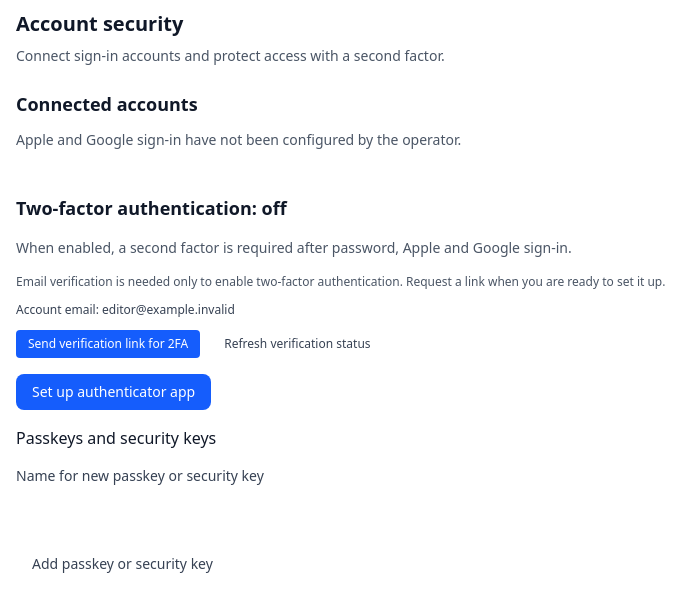
Test case: AccountSecurityPanel provider callback › enables factor setup after refreshing a completed email verification
Check: the button "Set up authenticator app" is disabled, box [16,374,211,410]
Step 1. Click the button "Refresh verification status" → (297, 344), box [212,330,383,358]
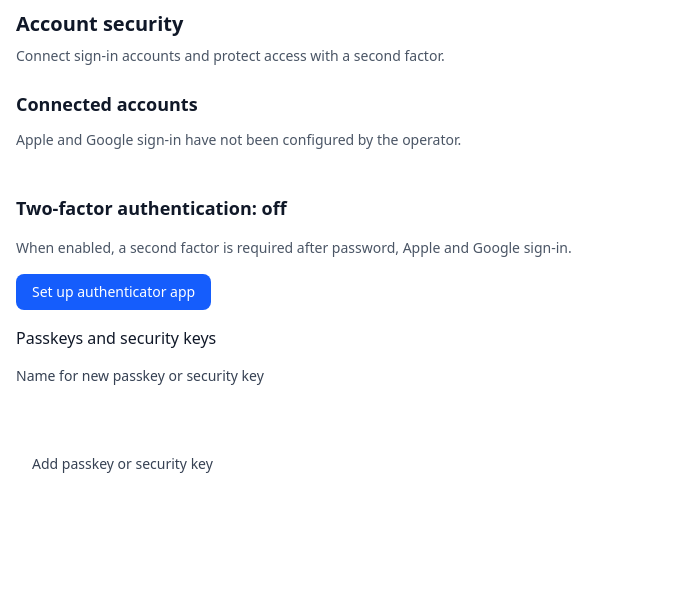
Check: the button "Set up authenticator app" is enabled, box [16,274,211,310]
